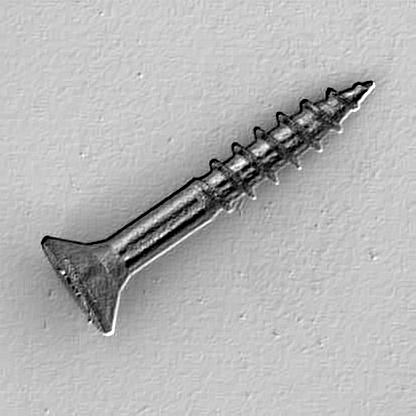metal: (40, 78, 376, 336)
